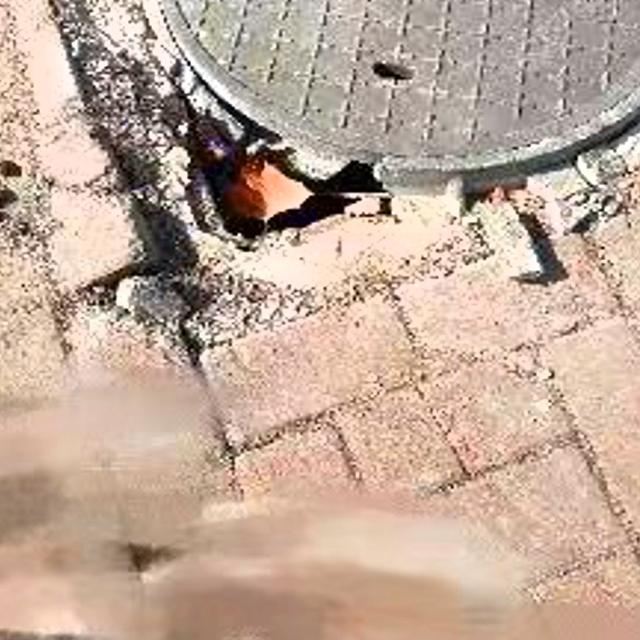circle: (42, 0, 640, 230)
